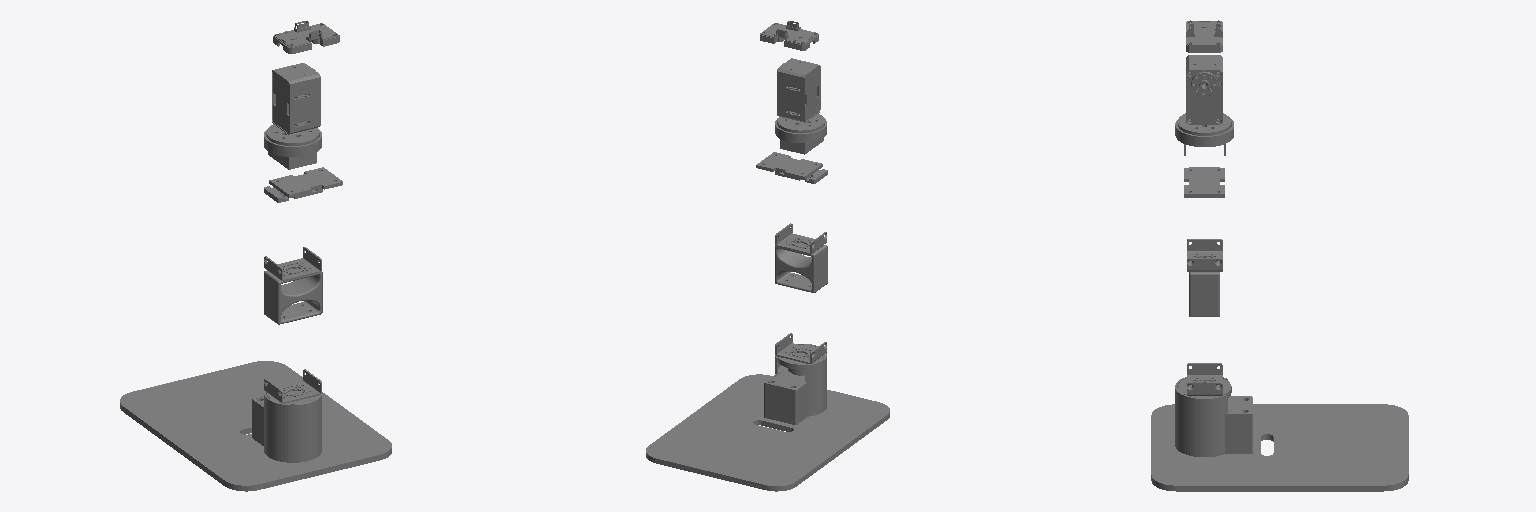
The robot description file, URDF, robot "robot_arm_fusion_visual":
<?xml version="1.0"?>
<robot name="robot_arm_fusion_visual">
  <material name="fusion_gray"><color rgba="0.55 0.55 0.55 1"/></material>
  <link name="world"/>
  <link name="fusion_part_000_occ_012_XC_430_idle_1_DC11_B01_CASE_B_DUMMY2_1">
    <visual>
      <geometry><mesh filename="../cad/exports/fusion_meshes/XC-430_idle_1_DC11_B01_CASE_B_DUMMY2_1.stl" scale="0.001 0.001 0.001"/></geometry>
      <material name="fusion_gray"/>
    </visual>
  </link>
  <joint name="fusion_part_000_occ_012_XC_430_idle_1_DC11_B01_CASE_B_DUMMY2_1_fixed" type="fixed">
    <parent link="world"/>
    <child link="fusion_part_000_occ_012_XC_430_idle_1_DC11_B01_CASE_B_DUMMY2_1"/>
    <origin xyz="2.29501218e-17 -5.55111512e-17 0.3232" rpy="1.57079633 2.47024623e-15 1.57079633"/>
  </joint>
  <link name="fusion_part_001_occ_011_XC_430_idle_1_DC11_B01_CASE_F_DUMMY_1">
    <visual>
      <geometry><mesh filename="../cad/exports/fusion_meshes/XC-430_idle_1_DC11_B01_CASE_F_DUMMY_1.stl" scale="0.001 0.001 0.001"/></geometry>
      <material name="fusion_gray"/>
    </visual>
  </link>
  <joint name="fusion_part_001_occ_011_XC_430_idle_1_DC11_B01_CASE_F_DUMMY_1_fixed" type="fixed">
    <parent link="world"/>
    <child link="fusion_part_001_occ_011_XC_430_idle_1_DC11_B01_CASE_F_DUMMY_1"/>
    <origin xyz="4.4408921e-18 -7.54951657e-17 0.3232" rpy="1.57079633 2.49800181e-15 1.57079633"/>
  </joint>
  <link name="fusion_part_002_occ_010_XC_430_idle_1_DC11_B01_CASE_M_DUMMY_1">
    <visual>
      <geometry><mesh filename="../cad/exports/fusion_meshes/XC-430_idle_1_DC11_B01_CASE_M_DUMMY_1.stl" scale="0.001 0.001 0.001"/></geometry>
      <material name="fusion_gray"/>
    </visual>
  </link>
  <joint name="fusion_part_002_occ_010_XC_430_idle_1_DC11_B01_CASE_M_DUMMY_1_fixed" type="fixed">
    <parent link="world"/>
    <child link="fusion_part_002_occ_010_XC_430_idle_1_DC11_B01_CASE_M_DUMMY_1"/>
    <origin xyz="1.81780483e-17 -8.21565038e-17 0.3232" rpy="1.57079633 2.47024623e-15 1.57079633"/>
  </joint>
  <link name="fusion_part_003_occ_020_XC_430_idle_1_M_DC11_A01_HORN_ASM_1_M_DC11_A01_HORN_1">
    <visual>
      <geometry><mesh filename="../cad/exports/fusion_meshes/XC-430_idle_1_M_DC11_A01_HORN_ASM_1_M_DC11_A01_HORN_1.stl" scale="0.001 0.001 0.001"/></geometry>
      <material name="fusion_gray"/>
    </visual>
  </link>
  <joint name="fusion_part_003_occ_020_XC_430_idle_1_M_DC11_A01_HORN_ASM_1_M_DC11_A01_HORN_1_fixed" type="fixed">
    <parent link="world"/>
    <child link="fusion_part_003_occ_020_XC_430_idle_1_M_DC11_A01_HORN_ASM_1_M_DC11_A01_HORN_1"/>
    <origin xyz="0.0155 -1.77635684e-16 0.3232" rpy="0 -1.57079633 -1.57079633"/>
  </joint>
  <link name="fusion_part_004_occ_027_XC_430_idle_2_DC11_B01_CASE_B_DUMMY2_1">
    <visual>
      <geometry><mesh filename="../cad/exports/fusion_meshes/XC-430_idle_2_DC11_B01_CASE_B_DUMMY2_1.stl" scale="0.001 0.001 0.001"/></geometry>
      <material name="fusion_gray"/>
    </visual>
  </link>
  <joint name="fusion_part_004_occ_027_XC_430_idle_2_DC11_B01_CASE_B_DUMMY2_1_fixed" type="fixed">
    <parent link="world"/>
    <child link="fusion_part_004_occ_027_XC_430_idle_2_DC11_B01_CASE_B_DUMMY2_1"/>
    <origin xyz="-1.33573708e-17 8.8817842e-18 0.3752" rpy="3.53213218e-16 2.41473508e-15 1.57079633"/>
  </joint>
  <link name="fusion_part_005_occ_026_XC_430_idle_2_DC11_B01_CASE_F_DUMMY_1">
    <visual>
      <geometry><mesh filename="../cad/exports/fusion_meshes/XC-430_idle_2_DC11_B01_CASE_F_DUMMY_1.stl" scale="0.001 0.001 0.001"/></geometry>
      <material name="fusion_gray"/>
    </visual>
  </link>
  <joint name="fusion_part_005_occ_026_XC_430_idle_2_DC11_B01_CASE_F_DUMMY_1_fixed" type="fixed">
    <parent link="world"/>
    <child link="fusion_part_005_occ_026_XC_430_idle_2_DC11_B01_CASE_F_DUMMY_1"/>
    <origin xyz="-1.04100956e-18 -1.08107967e-17 0.3752" rpy="3.53213218e-16 2.41473508e-15 1.57079633"/>
  </joint>
  <link name="fusion_part_006_occ_025_XC_430_idle_2_DC11_B01_CASE_M_DUMMY_1">
    <visual>
      <geometry><mesh filename="../cad/exports/fusion_meshes/XC-430_idle_2_DC11_B01_CASE_M_DUMMY_1.stl" scale="0.001 0.001 0.001"/></geometry>
      <material name="fusion_gray"/>
    </visual>
  </link>
  <joint name="fusion_part_006_occ_025_XC_430_idle_2_DC11_B01_CASE_M_DUMMY_1_fixed" type="fixed">
    <parent link="world"/>
    <child link="fusion_part_006_occ_025_XC_430_idle_2_DC11_B01_CASE_M_DUMMY_1"/>
    <origin xyz="-1.11022302e-18 1.20736754e-17 0.3752" rpy="3.53213218e-16 2.47024623e-15 1.57079633"/>
  </joint>
  <link name="fusion_part_007_occ_035_XC_430_idle_2_M_DC11_A01_HORN_ASM_1_M_DC11_A01_HORN_1">
    <visual>
      <geometry><mesh filename="../cad/exports/fusion_meshes/XC-430_idle_2_M_DC11_A01_HORN_ASM_1_M_DC11_A01_HORN_1.stl" scale="0.001 0.001 0.001"/></geometry>
      <material name="fusion_gray"/>
    </visual>
  </link>
  <joint name="fusion_part_007_occ_035_XC_430_idle_2_M_DC11_A01_HORN_ASM_1_M_DC11_A01_HORN_1_fixed" type="fixed">
    <parent link="world"/>
    <child link="fusion_part_007_occ_035_XC_430_idle_2_M_DC11_A01_HORN_ASM_1_M_DC11_A01_HORN_1"/>
    <origin xyz="2.30371278e-17 3.63598041e-17 0.3907" rpy="1.57079633 -3.53213218e-16 3.14159265"/>
  </joint>
  <link name="fusion_part_008_occ_001_XM_H_430_idler_1_DUMMY_DC12_1">
    <visual>
      <geometry><mesh filename="../cad/exports/fusion_meshes/XM_H-430_idler_1_DUMMY_DC12_1.stl" scale="0.001 0.001 0.001"/></geometry>
      <material name="fusion_gray"/>
    </visual>
  </link>
  <joint name="fusion_part_008_occ_001_XM_H_430_idler_1_DUMMY_DC12_1_fixed" type="fixed">
    <parent link="world"/>
    <child link="fusion_part_008_occ_001_XM_H_430_idler_1_DUMMY_DC12_1"/>
    <origin xyz="0.00015 -5e-05 0.022" rpy="-1.57772181e-30 2.95249936e-15 -3.14159265"/>
  </joint>
  <link name="fusion_part_009_occ_005_XM_H_430_idler_2_DUMMY_DC12_1">
    <visual>
      <geometry><mesh filename="../cad/exports/fusion_meshes/XM_H-430_idler_2_DUMMY_DC12_1.stl" scale="0.001 0.001 0.001"/></geometry>
      <material name="fusion_gray"/>
    </visual>
  </link>
  <joint name="fusion_part_009_occ_005_XM_H_430_idler_2_DUMMY_DC12_1_fixed" type="fixed">
    <parent link="world"/>
    <child link="fusion_part_009_occ_005_XM_H_430_idler_2_DUMMY_DC12_1"/>
    <origin xyz="-1.21137049e-17 7.14149758e-18 0.0955" rpy="1.57079633 6.78233664e-17 1.57079633"/>
  </joint>
  <link name="fusion_part_010_occ_040_XM_H_430_idler_3_DUMMY_DC12_1">
    <visual>
      <geometry><mesh filename="../cad/exports/fusion_meshes/XM_H-430_idler_3_DUMMY_DC12_1.stl" scale="0.001 0.001 0.001"/></geometry>
      <material name="fusion_gray"/>
    </visual>
  </link>
  <joint name="fusion_part_010_occ_040_XM_H_430_idler_3_DUMMY_DC12_1_fixed" type="fixed">
    <parent link="world"/>
    <child link="fusion_part_010_occ_040_XM_H_430_idler_3_DUMMY_DC12_1"/>
    <origin xyz="1.25281729e-16 -2.62012634e-16 0.2022" rpy="1.57079633 1.66533454e-16 1.57079633"/>
  </joint>
  <link name="fusion_part_011_occ_044_XM_H_430_idler_4_DUMMY_DC12_1">
    <visual>
      <geometry><mesh filename="../cad/exports/fusion_meshes/XM_H-430_idler_4_DUMMY_DC12_1.stl" scale="0.001 0.001 0.001"/></geometry>
      <material name="fusion_gray"/>
    </visual>
  </link>
  <joint name="fusion_part_011_occ_044_XM_H_430_idler_4_DUMMY_DC12_1_fixed" type="fixed">
    <parent link="world"/>
    <child link="fusion_part_011_occ_044_XM_H_430_idler_4_DUMMY_DC12_1"/>
    <origin xyz="1.01307851e-17 -1.33226763e-16 0.2542" rpy="3.27181367e-16 2.77555756e-17 1.57079633"/>
  </joint>
  <link name="fusion_part_012_occ_023_arm_hand_v2_1">
    <visual>
      <geometry><mesh filename="../cad/exports/fusion_meshes/arm_hand_v2_1.stl" scale="0.001 0.001 0.001"/></geometry>
      <material name="fusion_gray"/>
    </visual>
  </link>
  <joint name="fusion_part_012_occ_023_arm_hand_v2_1_fixed" type="fixed">
    <parent link="world"/>
    <child link="fusion_part_012_occ_023_arm_hand_v2_1"/>
    <origin xyz="-0.0205 -0.012 0.3512" rpy="-2.35922393e-15 1.90763088e-16 -6.81142969e-16"/>
  </joint>
  <link name="fusion_part_013_occ_043_arm_hand_v2_2">
    <visual>
      <geometry><mesh filename="../cad/exports/fusion_meshes/arm_hand_v2_2.stl" scale="0.001 0.001 0.001"/></geometry>
      <material name="fusion_gray"/>
    </visual>
  </link>
  <joint name="fusion_part_013_occ_043_arm_hand_v2_2_fixed" type="fixed">
    <parent link="world"/>
    <child link="fusion_part_013_occ_043_arm_hand_v2_2"/>
    <origin xyz="-0.0205 -0.012 0.2302" rpy="-5.55111512e-17 3.35102683e-16 -7.87663769e-16"/>
  </joint>
  <link name="fusion_part_014_occ_038_arm_part1_v2_1">
    <visual>
      <geometry><mesh filename="../cad/exports/fusion_meshes/arm_part1_v2_1.stl" scale="0.001 0.001 0.001"/></geometry>
      <material name="fusion_gray"/>
    </visual>
  </link>
  <joint name="fusion_part_014_occ_038_arm_part1_v2_1_fixed" type="fixed">
    <parent link="world"/>
    <child link="fusion_part_014_occ_038_arm_part1_v2_1"/>
    <origin xyz="-0.0205 -0.012 0.12345" rpy="0 -1.57079633 -1.57079633"/>
  </joint>
  <link name="fusion_part_015_occ_000_arm_plate_v2_1">
    <visual>
      <geometry><mesh filename="../cad/exports/fusion_meshes/arm_plate_v2_1.stl" scale="0.001 0.001 0.001"/></geometry>
      <material name="fusion_gray"/>
    </visual>
  </link>
  <joint name="fusion_part_015_occ_000_arm_plate_v2_1_fixed" type="fixed">
    <parent link="world"/>
    <child link="fusion_part_015_occ_000_arm_plate_v2_1"/>
    <origin xyz="-0.075 -0.0413 0" rpy="0 -0 0"/>
  </joint>
  <link name="fusion_part_016_occ_003_arm_thrustA_1">
    <visual>
      <geometry><mesh filename="../cad/exports/fusion_meshes/arm_thrustA_1.stl" scale="0.001 0.001 0.001"/></geometry>
      <material name="fusion_gray"/>
    </visual>
  </link>
  <joint name="fusion_part_016_occ_003_arm_thrustA_1_fixed" type="fixed">
    <parent link="world"/>
    <child link="fusion_part_016_occ_003_arm_thrustA_1"/>
    <origin xyz="5.4378151e-34 8.78271367e-36 0.055" rpy="-3.14159265 -6.12243551e-17 -3.14159265"/>
  </joint>
  <link name="fusion_part_017_occ_008_arm_thrustB_1">
    <visual>
      <geometry><mesh filename="../cad/exports/fusion_meshes/arm_thrustB_1.stl" scale="0.001 0.001 0.001"/></geometry>
      <material name="fusion_gray"/>
    </visual>
  </link>
  <joint name="fusion_part_017_occ_008_arm_thrustB_1_fixed" type="fixed">
    <parent link="world"/>
    <child link="fusion_part_017_occ_008_arm_thrustB_1"/>
    <origin xyz="3.73034936e-16 8.8817842e-18 0.2827" rpy="3.14159265 9.35362898e-15 2.22044605e-16"/>
  </joint>
  <link name="fusion_part_018_occ_046_arm_thrustD_1">
    <visual>
      <geometry><mesh filename="../cad/exports/fusion_meshes/arm_thrustD_1.stl" scale="0.001 0.001 0.001"/></geometry>
      <material name="fusion_gray"/>
    </visual>
  </link>
  <joint name="fusion_part_018_occ_046_arm_thrustD_1_fixed" type="fixed">
    <parent link="world"/>
    <child link="fusion_part_018_occ_046_arm_thrustD_1"/>
    <origin xyz="1e-05 0.00025 0.2712" rpy="3.27181367e-16 1.84889275e-31 1.57079633"/>
  </joint>
  <link name="fusion_part_019_occ_007_fr12_h101_k_1">
    <visual>
      <geometry><mesh filename="../cad/exports/fusion_meshes/fr12_h101_k_1.stl" scale="0.001 0.001 0.001"/></geometry>
      <material name="fusion_gray"/>
    </visual>
  </link>
  <joint name="fusion_part_019_occ_007_fr12_h101_k_1_fixed" type="fixed">
    <parent link="world"/>
    <child link="fusion_part_019_occ_007_fr12_h101_k_1"/>
    <origin xyz="9.96980479e-17 1.30429521e-17 0.09545" rpy="1.57079633 4.08083249e-16 1.17961196e-16"/>
  </joint>
  <link name="fusion_part_020_occ_042_fr12_h101_k_1">
    <visual>
      <geometry><mesh filename="../cad/exports/fusion_meshes/fr12_h101_k_1.stl" scale="0.001 0.001 0.001"/></geometry>
      <material name="fusion_gray"/>
    </visual>
  </link>
  <joint name="fusion_part_020_occ_042_fr12_h101_k_1_fixed" type="fixed">
    <parent link="world"/>
    <child link="fusion_part_020_occ_042_fr12_h101_k_1"/>
    <origin xyz="-2.42904402e-17 -2.66453526e-16 0.2022" rpy="1.57079633 4.08601719e-16 -7.87663769e-16"/>
  </joint>
  <link name="fusion_part_021_occ_024_fr12_h101_k_3">
    <visual>
      <geometry><mesh filename="../cad/exports/fusion_meshes/fr12_h101_k_3.stl" scale="0.001 0.001 0.001"/></geometry>
      <material name="fusion_gray"/>
    </visual>
  </link>
  <joint name="fusion_part_021_occ_024_fr12_h101_k_3_fixed" type="fixed">
    <parent link="world"/>
    <child link="fusion_part_021_occ_024_fr12_h101_k_3"/>
    <origin xyz="2.88657986e-17 -1.59872116e-16 0.3232" rpy="1.57079633 -4.09199766e-16 3.14159265"/>
  </joint>
  <link name="fusion_part_022_occ_004_fr12_s102_k_1">
    <visual>
      <geometry><mesh filename="../cad/exports/fusion_meshes/fr12_s102_k_1.stl" scale="0.001 0.001 0.001"/></geometry>
      <material name="fusion_gray"/>
    </visual>
  </link>
  <joint name="fusion_part_022_occ_004_fr12_s102_k_1_fixed" type="fixed">
    <parent link="world"/>
    <child link="fusion_part_022_occ_004_fr12_s102_k_1"/>
    <origin xyz="1.17310153e-17 3.15459156e-18 0.0745" rpy="-3.14159265 -4.08083249e-16 -3.14159265"/>
  </joint>
  <link name="fusion_part_023_occ_039_fr12_s102_k_1">
    <visual>
      <geometry><mesh filename="../cad/exports/fusion_meshes/fr12_s102_k_1.stl" scale="0.001 0.001 0.001"/></geometry>
      <material name="fusion_gray"/>
    </visual>
  </link>
  <joint name="fusion_part_023_occ_039_fr12_s102_k_1_fixed" type="fixed">
    <parent link="world"/>
    <child link="fusion_part_023_occ_039_fr12_s102_k_1"/>
    <origin xyz="1.29896094e-16 -2.22044605e-16 0.1812" rpy="3.14159265 4.07956501e-16 -7.97372366e-16"/>
  </joint>
  <link name="fusion_part_024_occ_009_fr12_s102_k_2">
    <visual>
      <geometry><mesh filename="../cad/exports/fusion_meshes/fr12_s102_k_2.stl" scale="0.001 0.001 0.001"/></geometry>
      <material name="fusion_gray"/>
    </visual>
  </link>
  <joint name="fusion_part_024_occ_009_fr12_s102_k_2_fixed" type="fixed">
    <parent link="world"/>
    <child link="fusion_part_024_occ_009_fr12_s102_k_2"/>
    <origin xyz="5.59552404e-16 7.10542736e-17 0.3022" rpy="3.14159265 9.35362898e-15 2.22044605e-16"/>
  </joint>
</robot>

--- Facts derived from the render (not from the file) ---
3 views of the same robot in one strip: view 1: azimuth 30°, elevation 25°; view 2: azimuth 150°, elevation 25°; view 3: azimuth 270°, elevation 25° (orthographic).
Robot: robot_arm_fusion_visual — 26 links, 25 joints (25 fixed); root link world; default pose: every joint at zero.
Links seen in each view (by area): view 1: fusion_part_015_occ_000_arm_plate_v2_1, fusion_part_002_occ_010_XC_430_idle_1_DC11_B01_CASE_M_DUMMY_1, fusion_part_014_occ_038_arm_part1_v2_1, fusion_part_013_occ_043_arm_hand_v2_2, fusion_part_004_occ_027_XC_430_idle_2_DC11_B01_CASE_B_DUMMY2_1, fusion_part_018_occ_046_arm_thrustD_1, fusion_part_023_occ_039_fr12_s102_k_1, fusion_part_022_occ_004_fr12_s102_k_1, fusion_part_017_occ_008_arm_thrustB_1; view 2: fusion_part_015_occ_000_arm_plate_v2_1, fusion_part_002_occ_010_XC_430_idle_1_DC11_B01_CASE_M_DUMMY_1, fusion_part_014_occ_038_arm_part1_v2_1, fusion_part_013_occ_043_arm_hand_v2_2, fusion_part_004_occ_027_XC_430_idle_2_DC11_B01_CASE_B_DUMMY2_1, fusion_part_018_occ_046_arm_thrustD_1, fusion_part_023_occ_039_fr12_s102_k_1, fusion_part_022_occ_004_fr12_s102_k_1, fusion_part_017_occ_008_arm_thrustB_1; view 3: fusion_part_015_occ_000_arm_plate_v2_1, fusion_part_001_occ_011_XC_430_idle_1_DC11_B01_CASE_F_DUMMY_1, fusion_part_014_occ_038_arm_part1_v2_1, fusion_part_013_occ_043_arm_hand_v2_2, fusion_part_004_occ_027_XC_430_idle_2_DC11_B01_CASE_B_DUMMY2_1, fusion_part_023_occ_039_fr12_s102_k_1, fusion_part_022_occ_004_fr12_s102_k_1, fusion_part_018_occ_046_arm_thrustD_1, fusion_part_017_occ_008_arm_thrustB_1.
Link boxes in pixels (<box>): fusion_part_015_occ_000_arm_plate_v2_1: <box>120,361,391,491</box>; fusion_part_002_occ_010_XC_430_idle_1_DC11_B01_CASE_M_DUMMY_1: <box>272,64,314,134</box>; fusion_part_014_occ_038_arm_part1_v2_1: <box>264,268,322,324</box>; fusion_part_013_occ_043_arm_hand_v2_2: <box>264,167,342,202</box>; fusion_part_004_occ_027_XC_430_idle_2_DC11_B01_CASE_B_DUMMY2_1: <box>273,21,339,53</box>; fusion_part_018_occ_046_arm_thrustD_1: <box>264,130,321,169</box>; fusion_part_023_occ_039_fr12_s102_k_1: <box>264,247,321,281</box>; fusion_part_022_occ_004_fr12_s102_k_1: <box>264,369,321,403</box>; fusion_part_017_occ_008_arm_thrustB_1: <box>267,124,319,145</box>; fusion_part_015_occ_000_arm_plate_v2_1: <box>646,344,889,491</box>; fusion_part_002_occ_010_XC_430_idle_1_DC11_B01_CASE_M_DUMMY_1: <box>782,60,820,122</box>; fusion_part_014_occ_038_arm_part1_v2_1: <box>775,243,827,292</box>; fusion_part_013_occ_043_arm_hand_v2_2: <box>756,152,827,183</box>; fusion_part_004_occ_027_XC_430_idle_2_DC11_B01_CASE_B_DUMMY2_1: <box>760,21,818,50</box>; fusion_part_018_occ_046_arm_thrustD_1: <box>775,118,826,154</box>; fusion_part_023_occ_039_fr12_s102_k_1: <box>775,223,826,254</box>; fusion_part_022_occ_004_fr12_s102_k_1: <box>775,333,826,363</box>; fusion_part_017_occ_008_arm_thrustB_1: <box>777,114,824,132</box>; fusion_part_015_occ_000_arm_plate_v2_1: <box>1151,377,1408,491</box>; fusion_part_001_occ_011_XC_430_idle_1_DC11_B01_CASE_F_DUMMY_1: <box>1186,67,1222,124</box>; fusion_part_014_occ_038_arm_part1_v2_1: <box>1189,272,1219,316</box>; fusion_part_013_occ_043_arm_hand_v2_2: <box>1184,167,1224,197</box>; fusion_part_004_occ_027_XC_430_idle_2_DC11_B01_CASE_B_DUMMY2_1: <box>1186,20,1222,52</box>; fusion_part_023_occ_039_fr12_s102_k_1: <box>1187,239,1222,271</box>; fusion_part_022_occ_004_fr12_s102_k_1: <box>1187,363,1222,395</box>; fusion_part_018_occ_046_arm_thrustD_1: <box>1175,119,1233,155</box>; fusion_part_017_occ_008_arm_thrustB_1: <box>1178,113,1231,135</box>.
Bounding box of the posed robot: 0.15 × 0.2 × 0.3705 m (x, y, z).
Meshes: 23 distinct files referenced, 13 mesh visuals loaded (12 binary STL); not drawn: 12 (reference not matched to a file when rendering).
